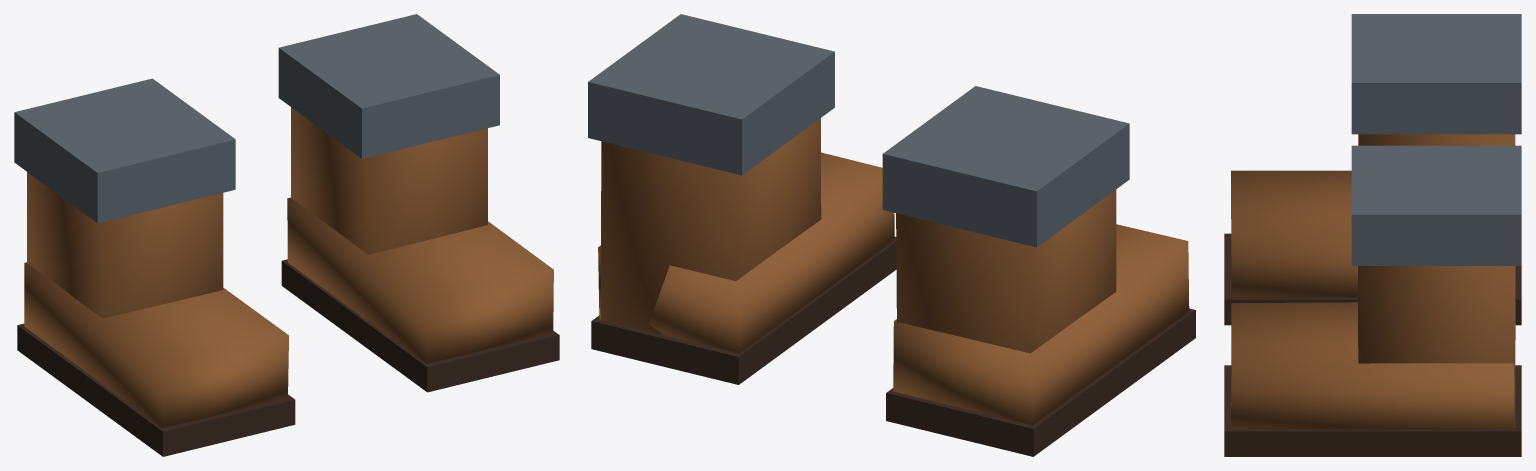
Rendered from boots_t1.glb.
The picture shows the model from 3 angles, left to right: view 1: azimuth 30°, elevation 25°; view 2: azimuth 150°, elevation 25°; view 3: azimuth 270°, elevation 25°; orthographic projection. The views are drawn at different scales.
Parts seen in each view (by area): view 1: sideL_leather1, sideR_leather1, sideR_darkMetal1, sideL_darkMetal1, sideR_sole, sideL_sole; view 2: sideR_leather1, sideL_leather1, sideR_darkMetal1, sideL_darkMetal1, sideR_sole, sideL_sole; view 3: sideL_leather1, sideR_darkMetal1, sideL_darkMetal1, sideR_leather1, sideL_sole, sideR_sole.
Part boxes in pixels (bbox=[...]): sideL_leather1: bbox=[287, 107, 553, 363]; sideR_leather1: bbox=[24, 172, 288, 428]; sideR_darkMetal1: bbox=[14, 78, 235, 223]; sideL_darkMetal1: bbox=[278, 14, 499, 158]; sideR_sole: bbox=[17, 323, 295, 456]; sideL_sole: bbox=[281, 259, 559, 392]; sideR_leather1: bbox=[893, 189, 1189, 425]; sideL_leather1: bbox=[598, 118, 894, 353]; sideR_darkMetal1: bbox=[882, 86, 1129, 247]; sideL_darkMetal1: bbox=[588, 14, 834, 175]; sideR_sole: bbox=[886, 308, 1195, 456]; sideL_sole: bbox=[591, 236, 896, 384]; sideL_leather1: bbox=[1231, 266, 1515, 429]; sideR_darkMetal1: bbox=[1351, 14, 1521, 134]; sideL_darkMetal1: bbox=[1351, 145, 1521, 265]; sideR_leather1: bbox=[1231, 134, 1515, 297]; sideL_sole: bbox=[1224, 365, 1521, 456]; sideR_sole: bbox=[1224, 233, 1521, 325].
Size of the model in its own units: 0.335 by 0.1908 by 0.21.
